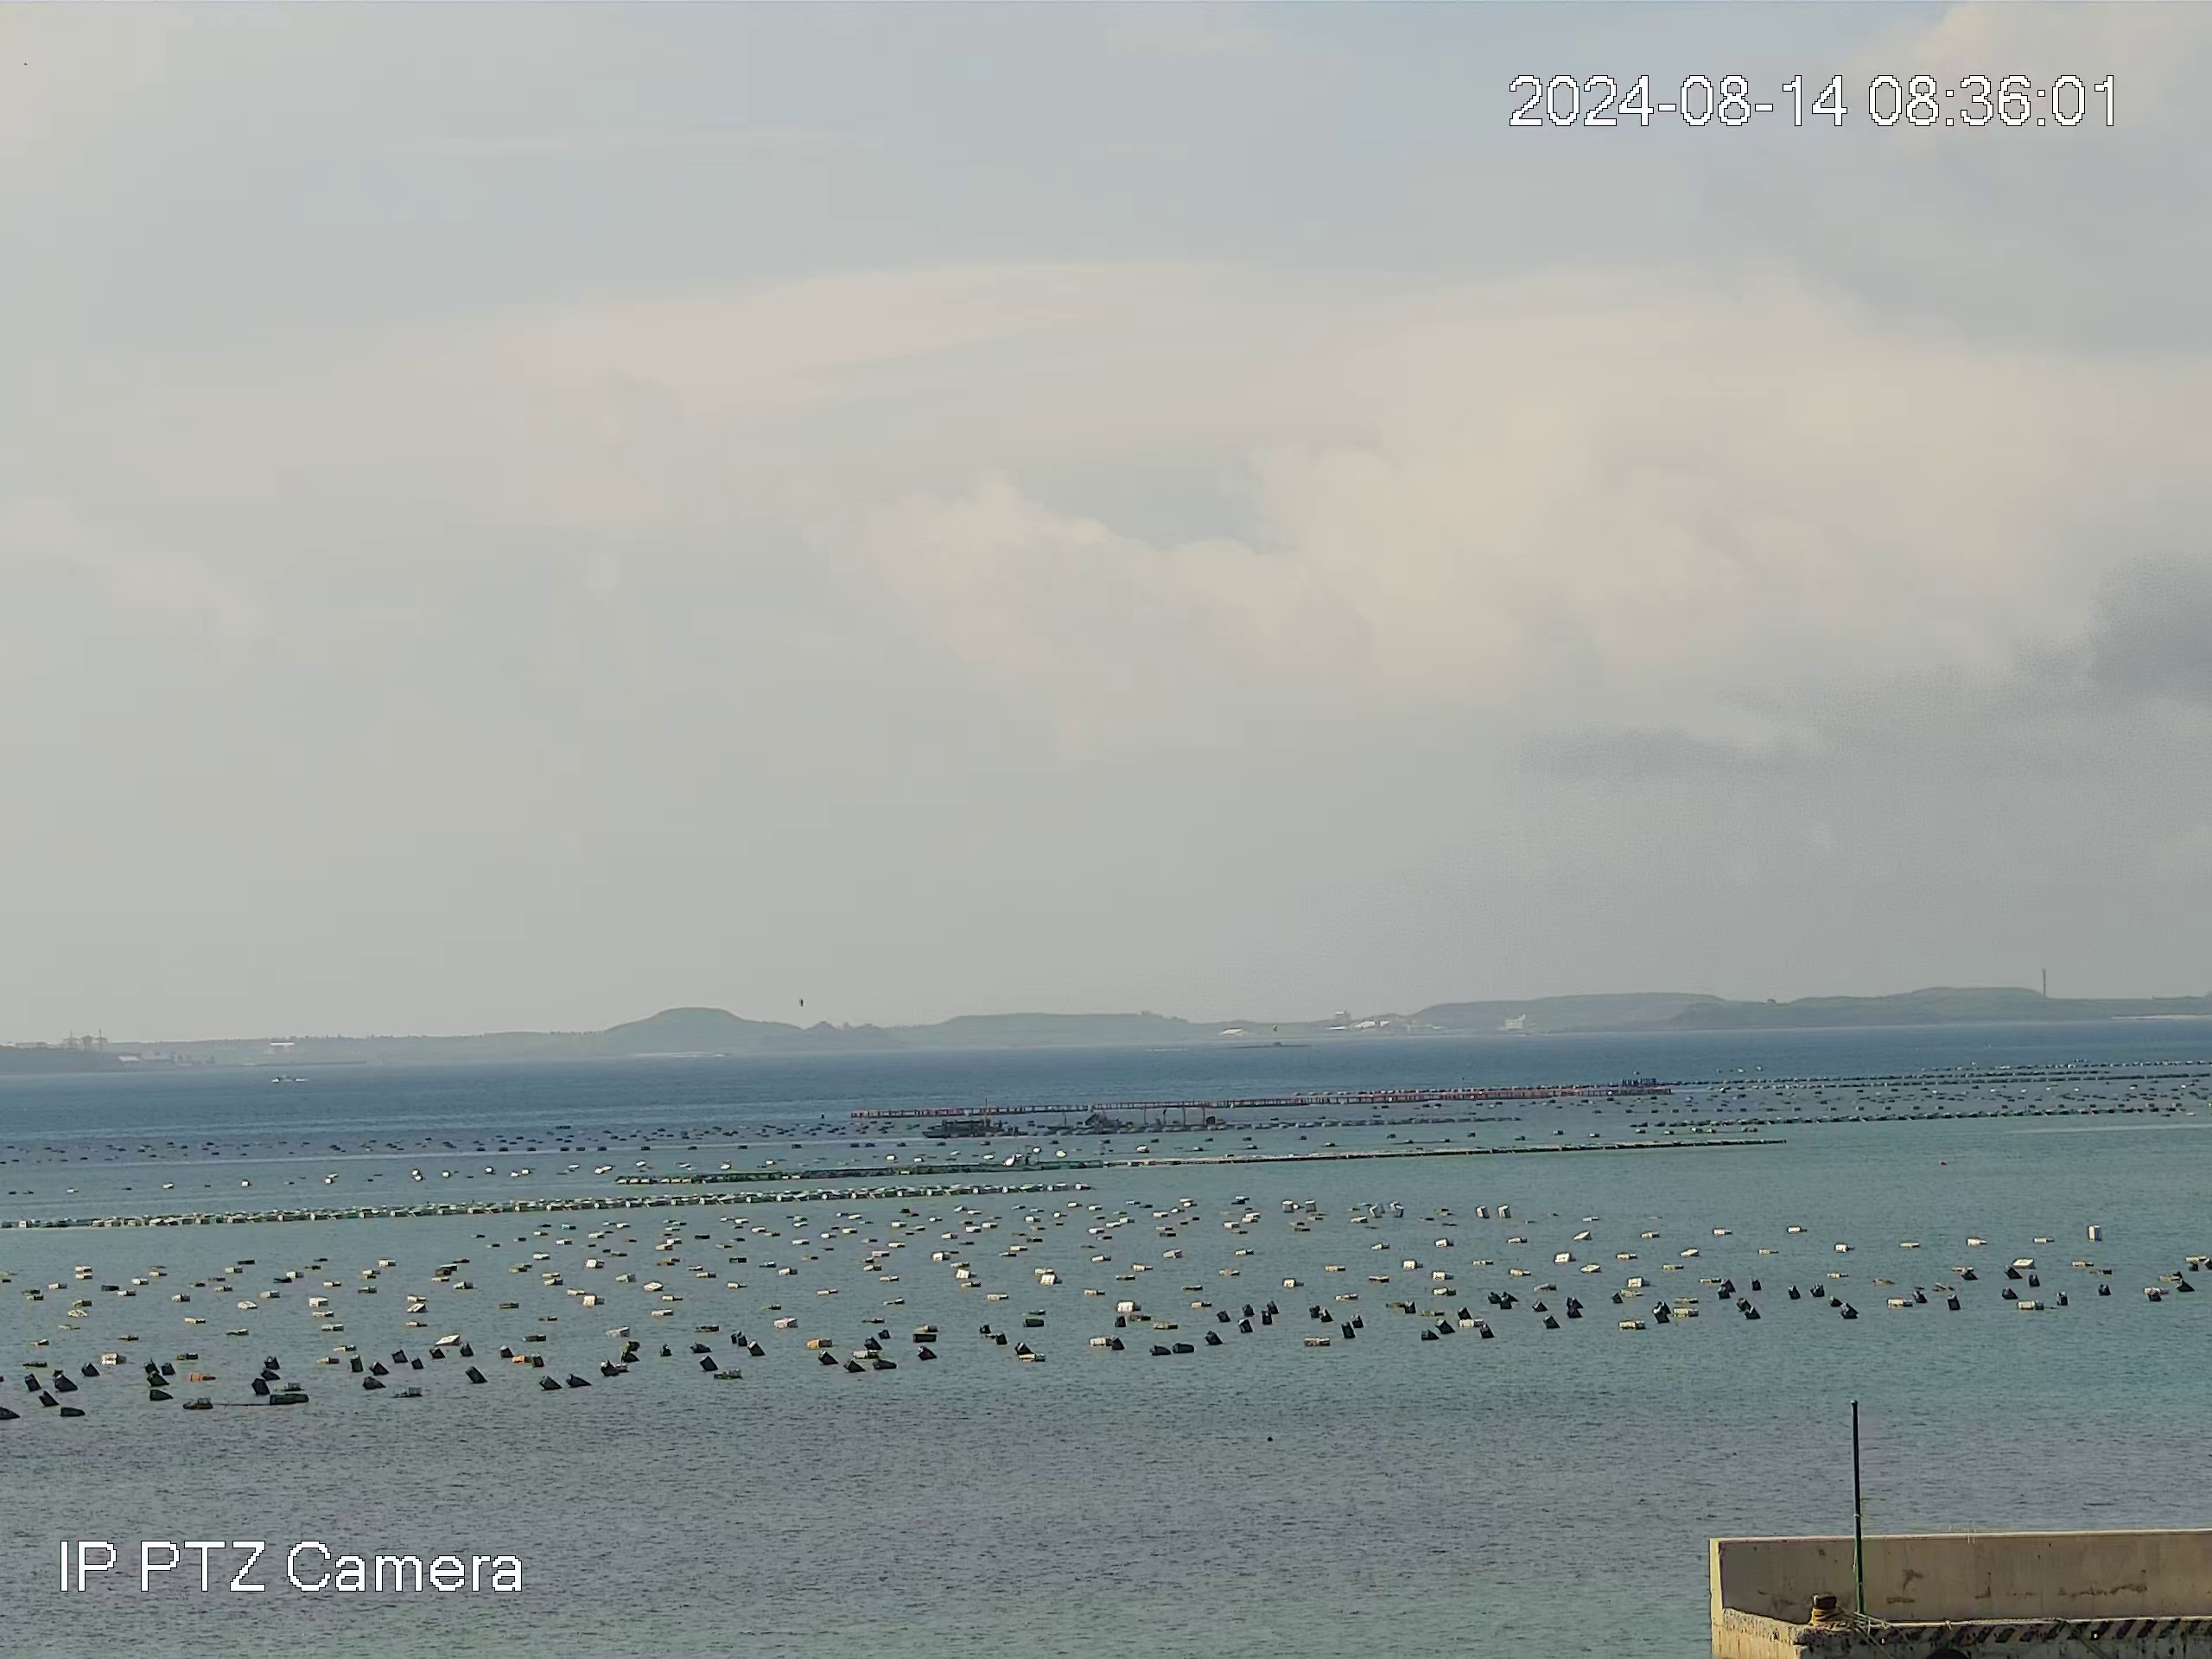boat: (925, 1121, 991, 1136)
